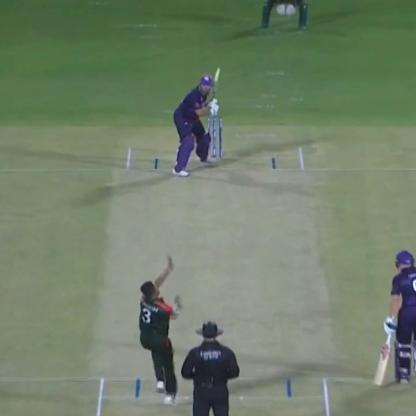pitch: (88, 142, 341, 416)
